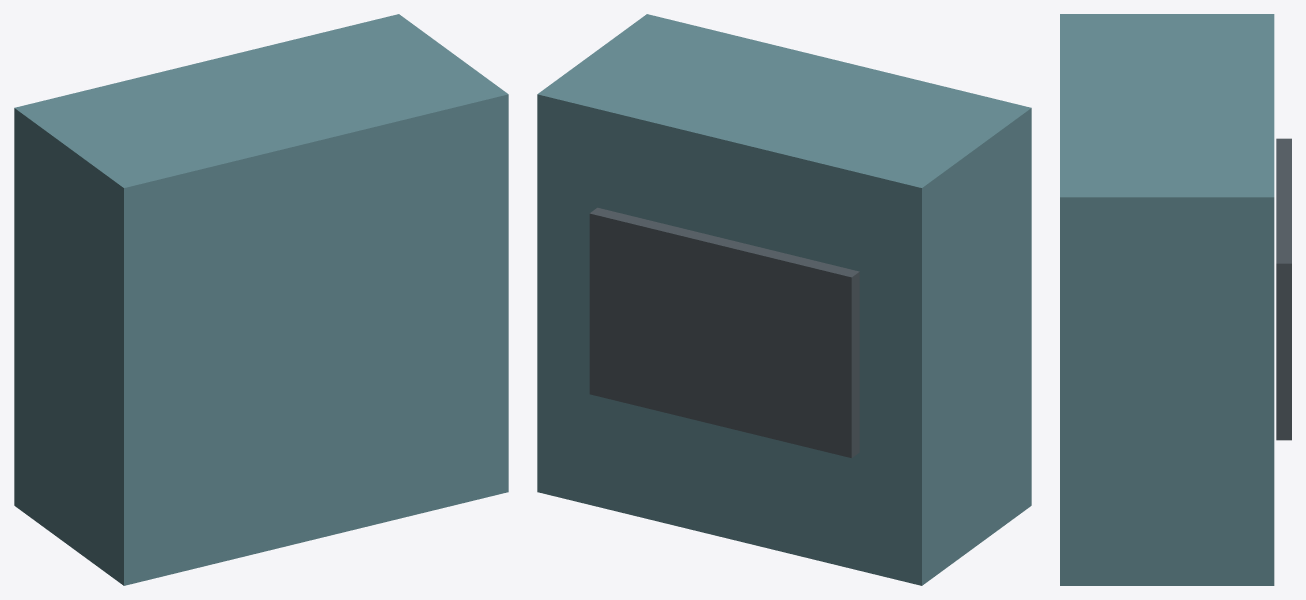
The model's file is iz2_bakery_dough_mixer.glb.
3 renders of one model, left to right at view 1: azimuth 30°, elevation 25°; view 2: azimuth 150°, elevation 25°; view 3: azimuth 270°, elevation 25°, orthographic. The views are drawn at different scales.
Visible parts, largest first — view 1: body; view 2: body; view 3: body.
Boxes of the visible parts, bbox=[...] form: body: bbox=[14, 14, 508, 585]; body: bbox=[537, 14, 1031, 585]; body: bbox=[1060, 14, 1291, 585].
Bounding box in the file's own units: 1.1 × 1.09 × 0.5876.
